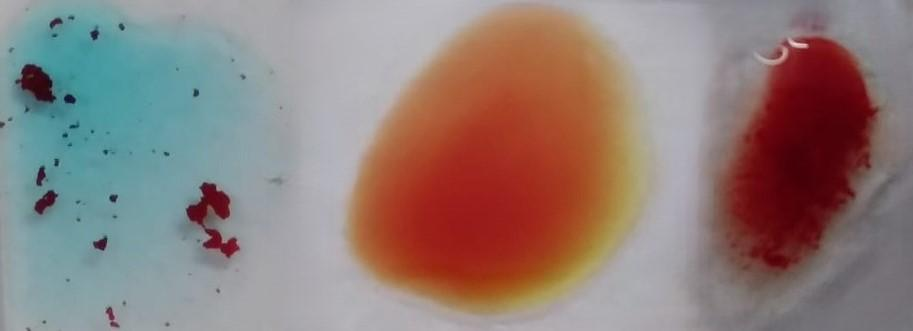A: (4, 3, 258, 325)
D: (716, 39, 886, 278)
